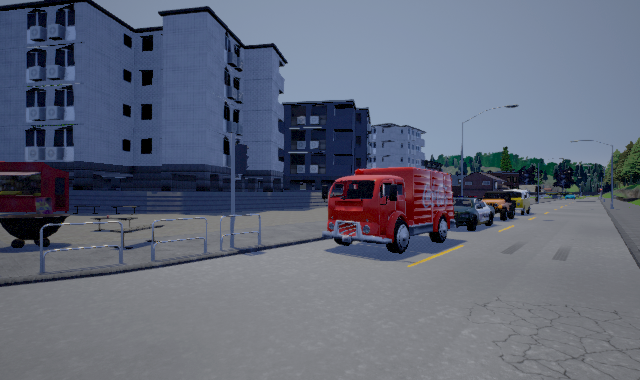vehicle: (322, 167, 456, 256), (444, 197, 496, 232), (477, 189, 517, 222), (499, 189, 532, 213)
